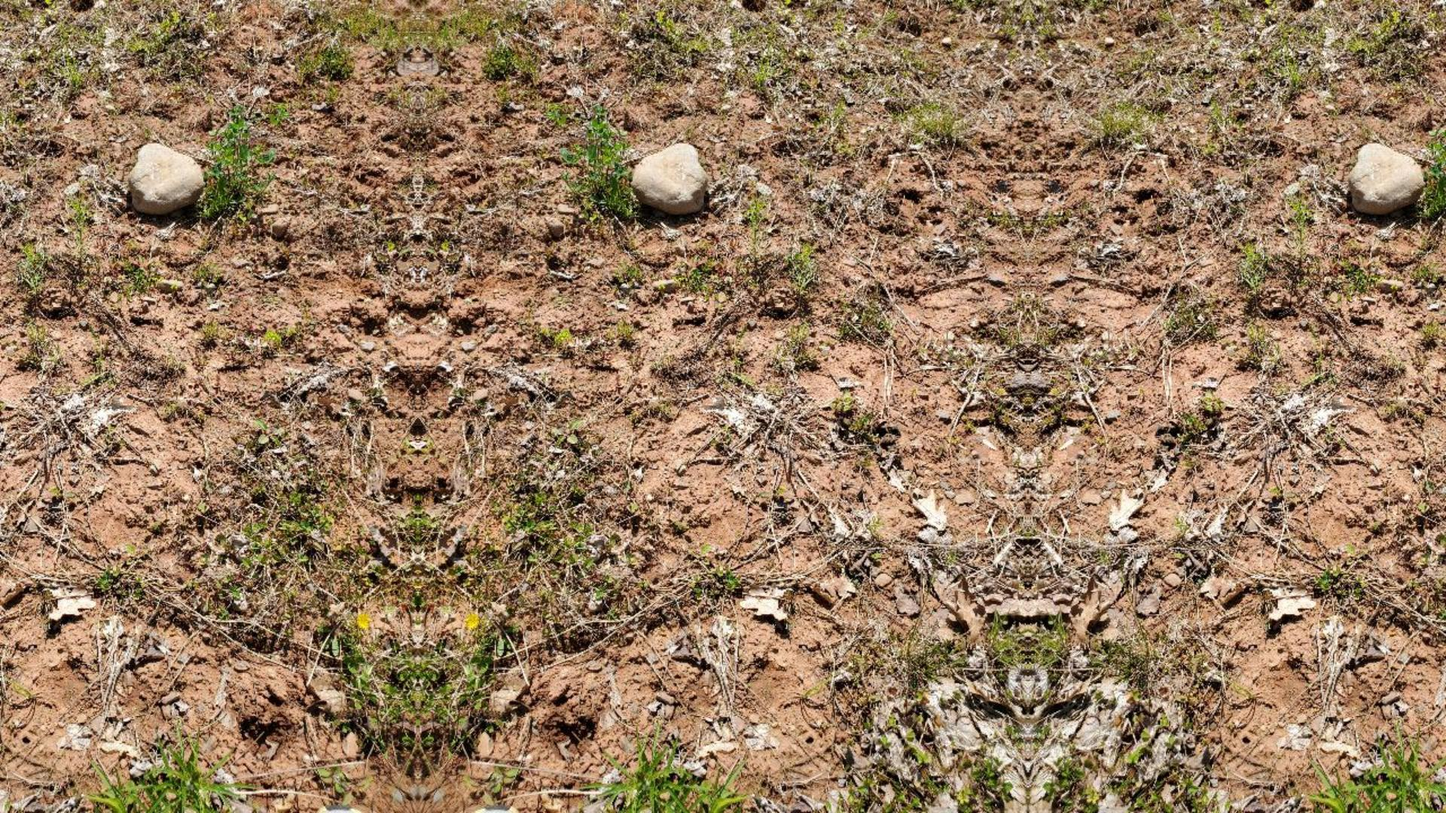rock: (128, 143, 203, 215), (631, 143, 707, 213), (1348, 143, 1423, 213)
